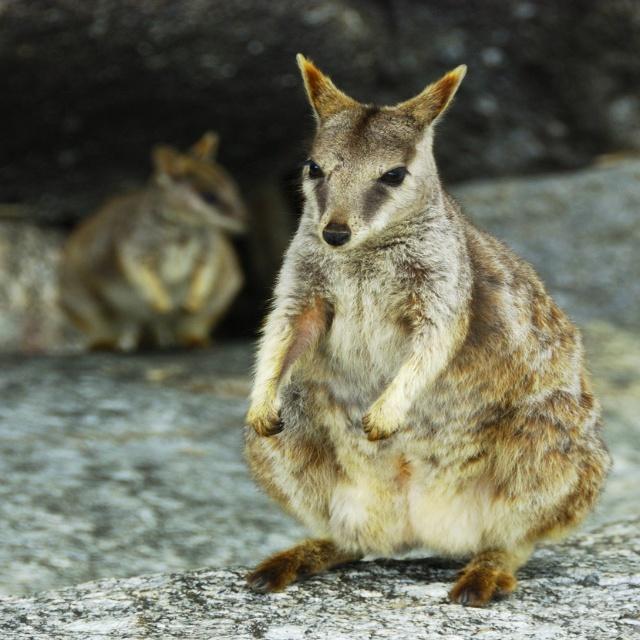Kangaroo: (236, 51, 615, 609), (57, 129, 259, 355)
